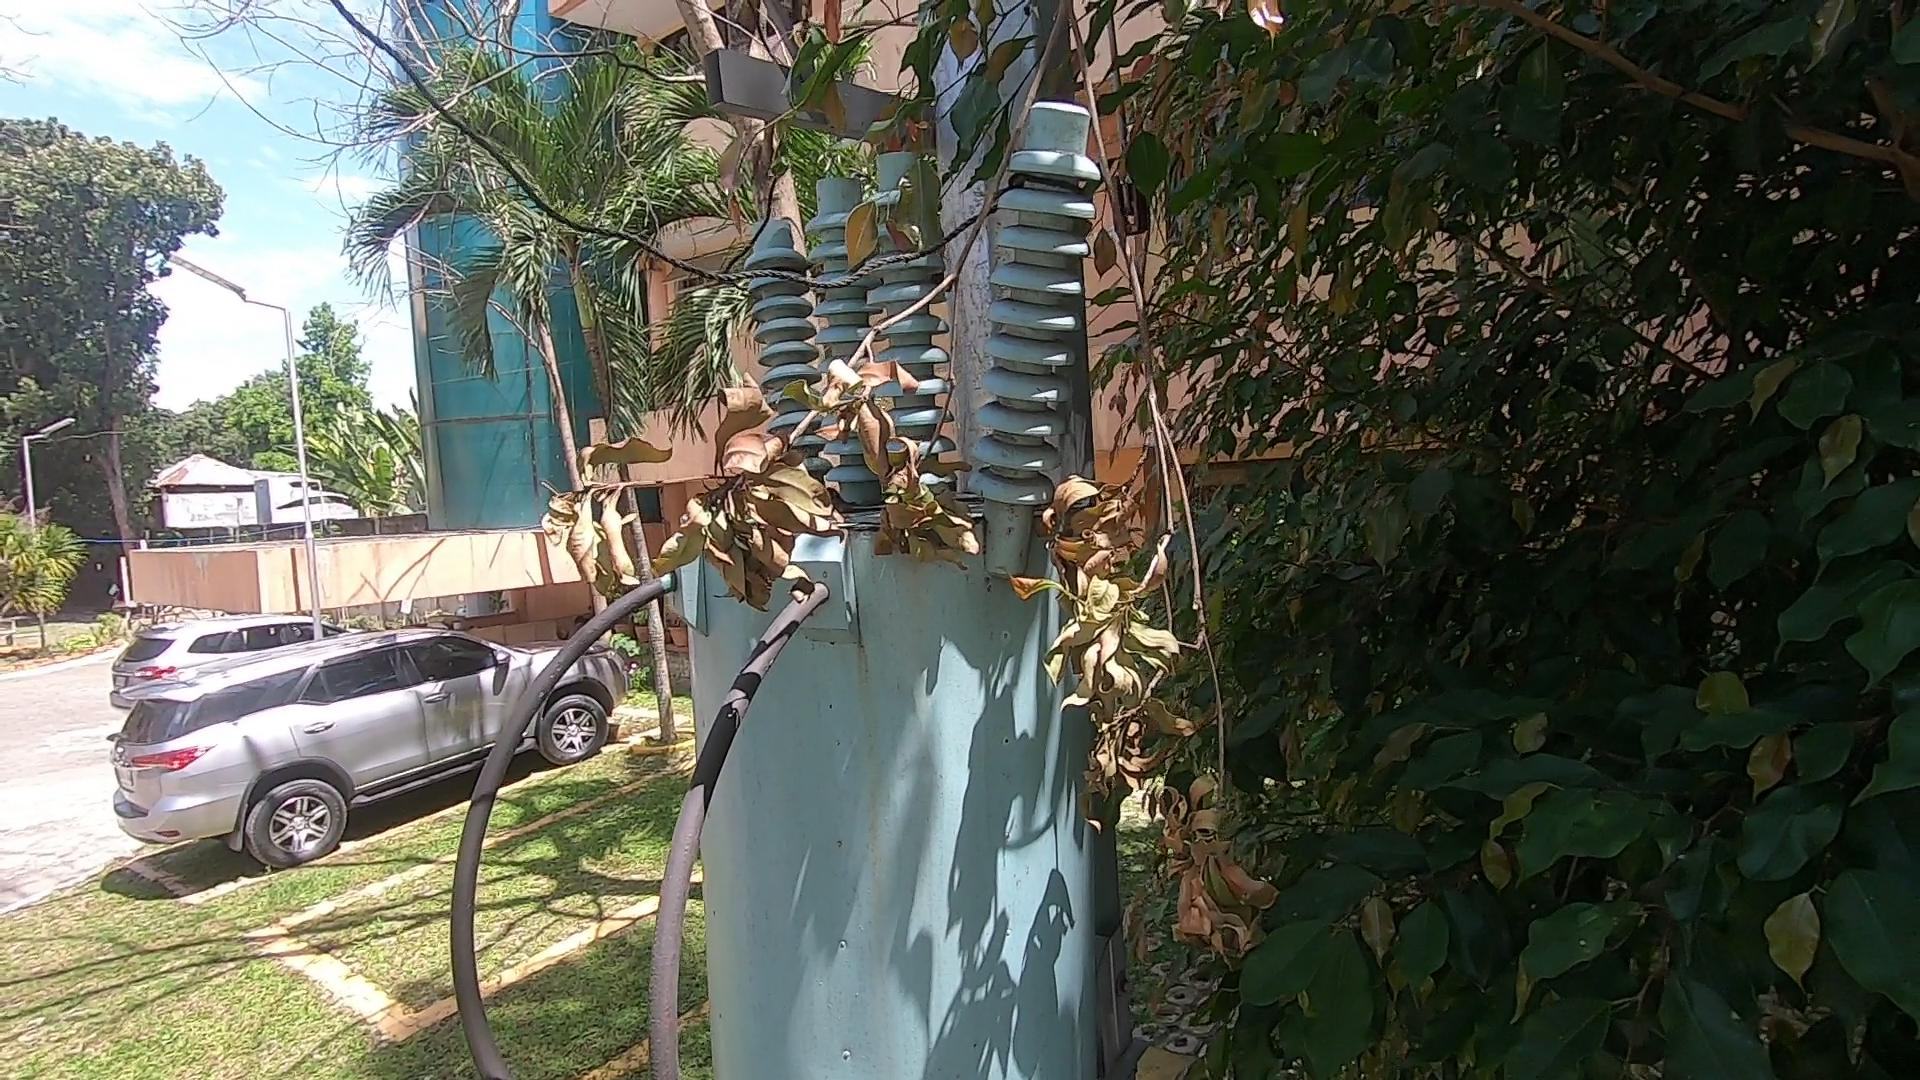branch with leaves: (559, 1, 1075, 698), (1052, 1, 1302, 992)
